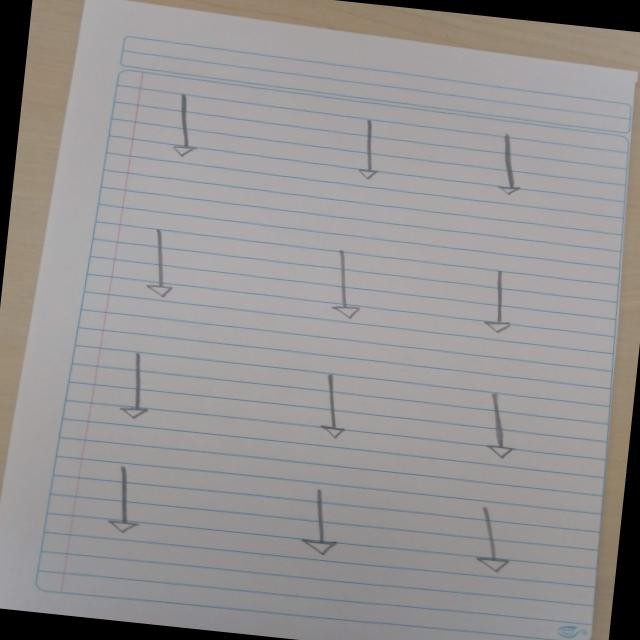arrow_line_down: (454, 501, 521, 577), (129, 224, 183, 306), (316, 246, 374, 322), (288, 482, 340, 557), (303, 370, 358, 440), (96, 464, 148, 536), (110, 348, 158, 424), (476, 388, 526, 458), (164, 88, 208, 162), (478, 269, 524, 336), (488, 131, 531, 195), (346, 120, 386, 184)
